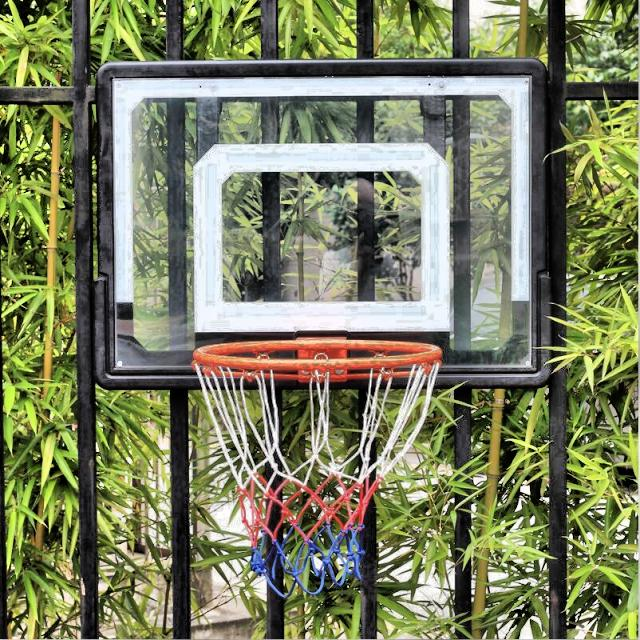rim: (192, 348, 443, 593)
